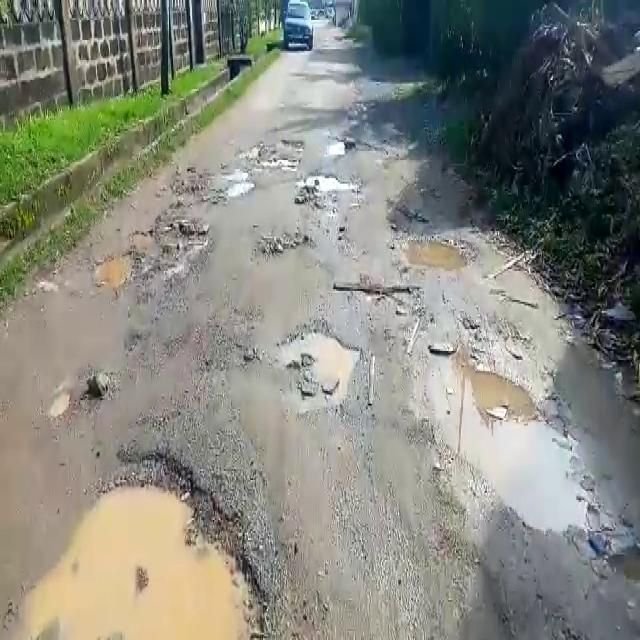Pothole: (3, 447, 283, 640), (413, 354, 604, 547), (93, 219, 212, 293), (280, 322, 355, 403), (402, 230, 472, 269), (338, 280, 424, 310), (257, 230, 313, 257), (294, 173, 332, 206), (224, 180, 256, 206)
